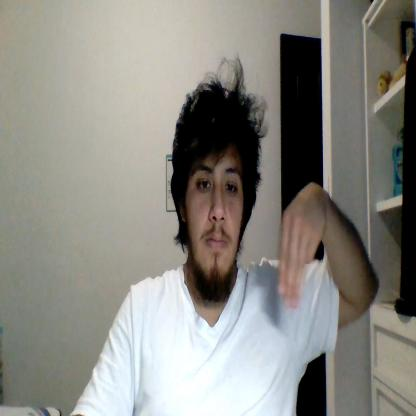M: (278, 190, 324, 308)
